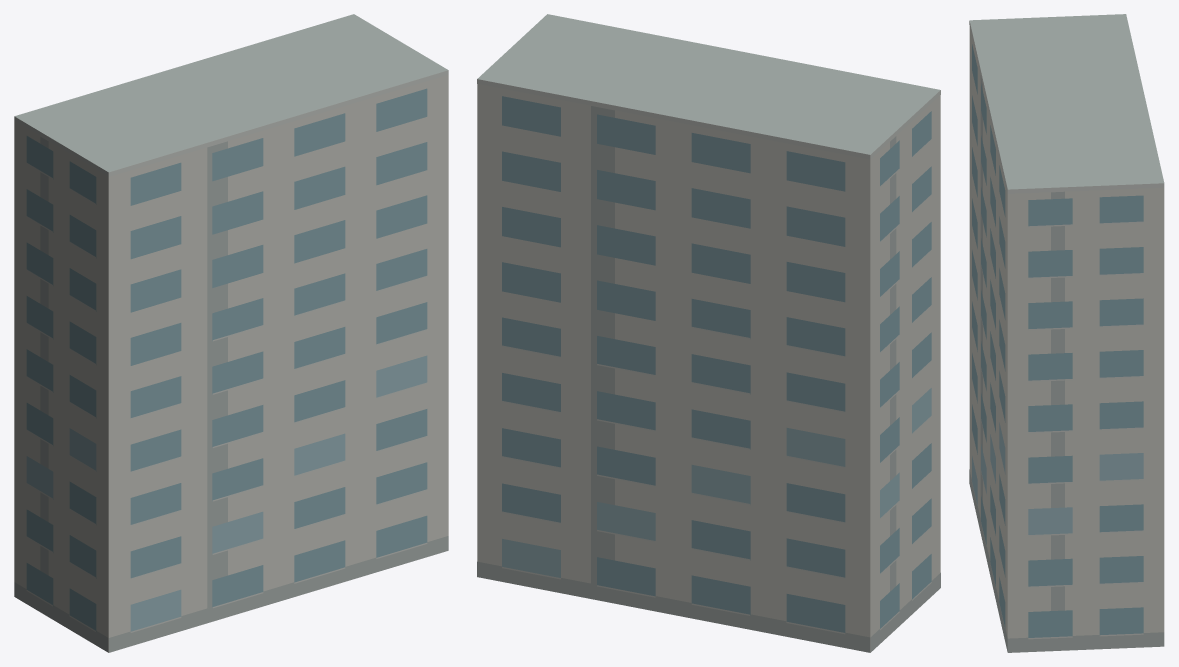
File: residential-f59e5682-5d40-4806-a072-eea5182ca4be.glb
The picture shows the model from 3 angles, left to right: view 1: azimuth 30°, elevation 25°; view 2: azimuth 150°, elevation 25°; view 3: azimuth 270°, elevation 25°; orthographic projection. The views are drawn at different scales.
Visible parts, largest first — view 1: residential-f59e5682-5d40-4806-a072-eea5182ca4be.tmp; view 2: residential-f59e5682-5d40-4806-a072-eea5182ca4be.tmp; view 3: residential-f59e5682-5d40-4806-a072-eea5182ca4be.tmp.
Boxes of the visible parts, <box> form: residential-f59e5682-5d40-4806-a072-eea5182ca4be.tmp: <box>14,14,448,652</box>; residential-f59e5682-5d40-4806-a072-eea5182ca4be.tmp: <box>477,14,940,652</box>; residential-f59e5682-5d40-4806-a072-eea5182ca4be.tmp: <box>969,14,1164,652</box>.
Bounding box in the file's own units: 20.32 × 25 × 9.54.
